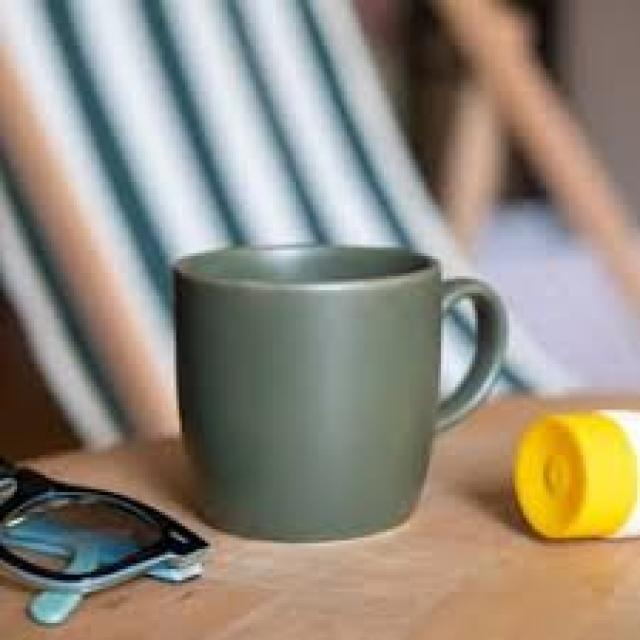taza: (173, 242, 511, 544)
